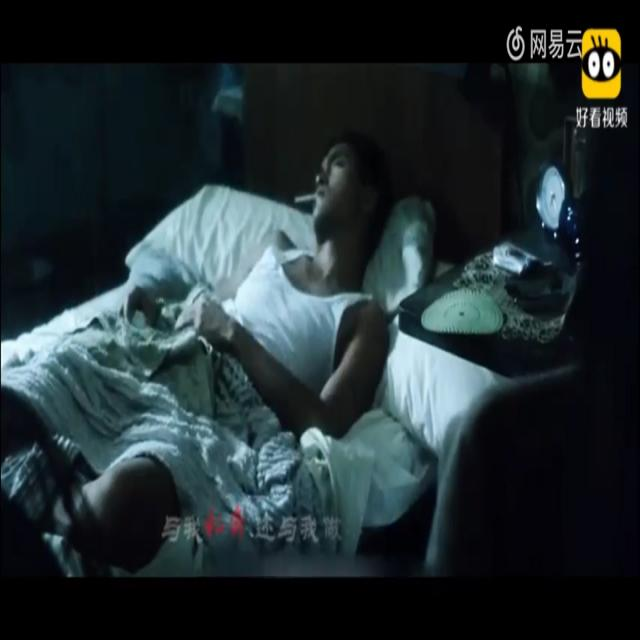cigarette: (294, 192, 316, 210)
